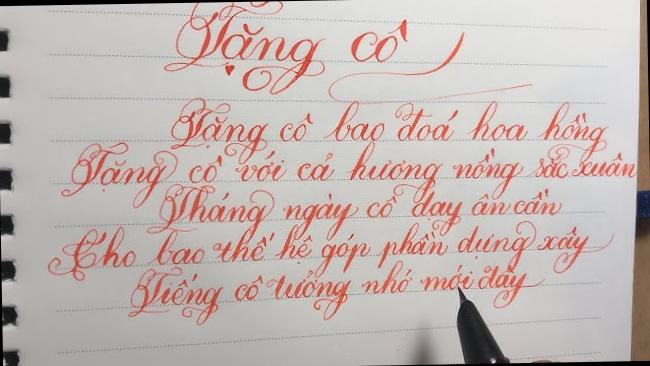text: (60, 131, 638, 211), (44, 215, 617, 284), (167, 87, 610, 167), (122, 256, 536, 332), (145, 176, 564, 248), (160, 0, 409, 97)
